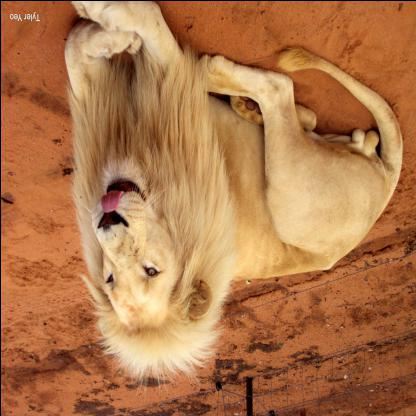lion: (61, 122, 230, 384)
